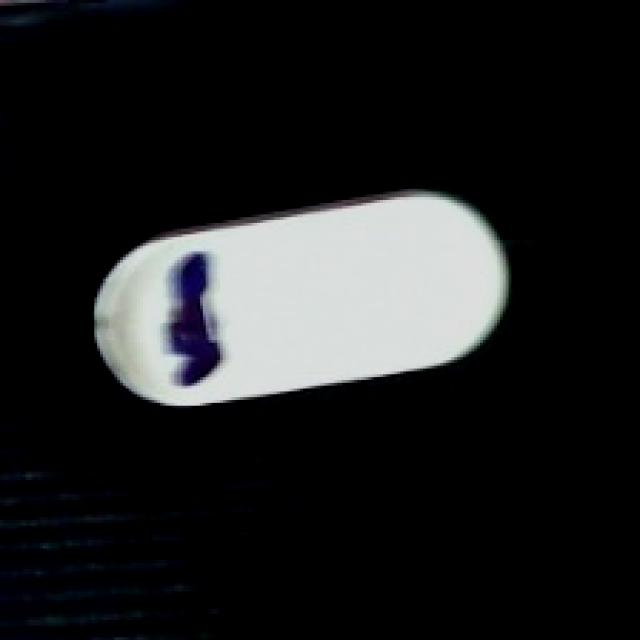defected: (77, 192, 509, 408)
